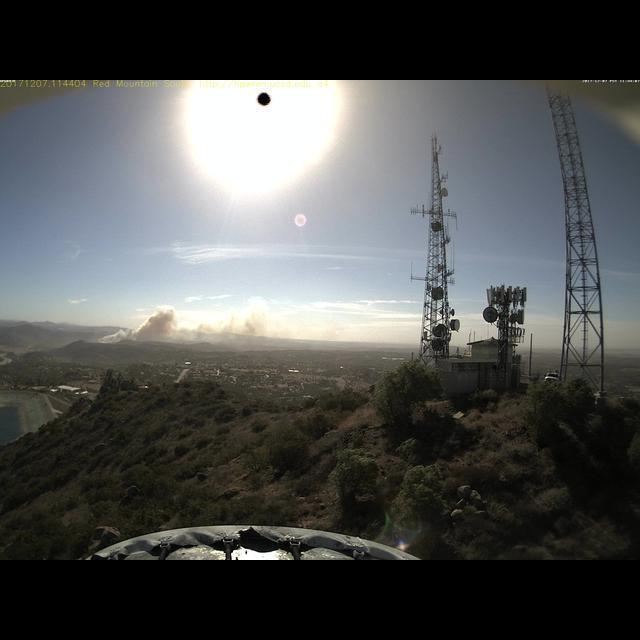Smoke: (90, 301, 276, 346)
